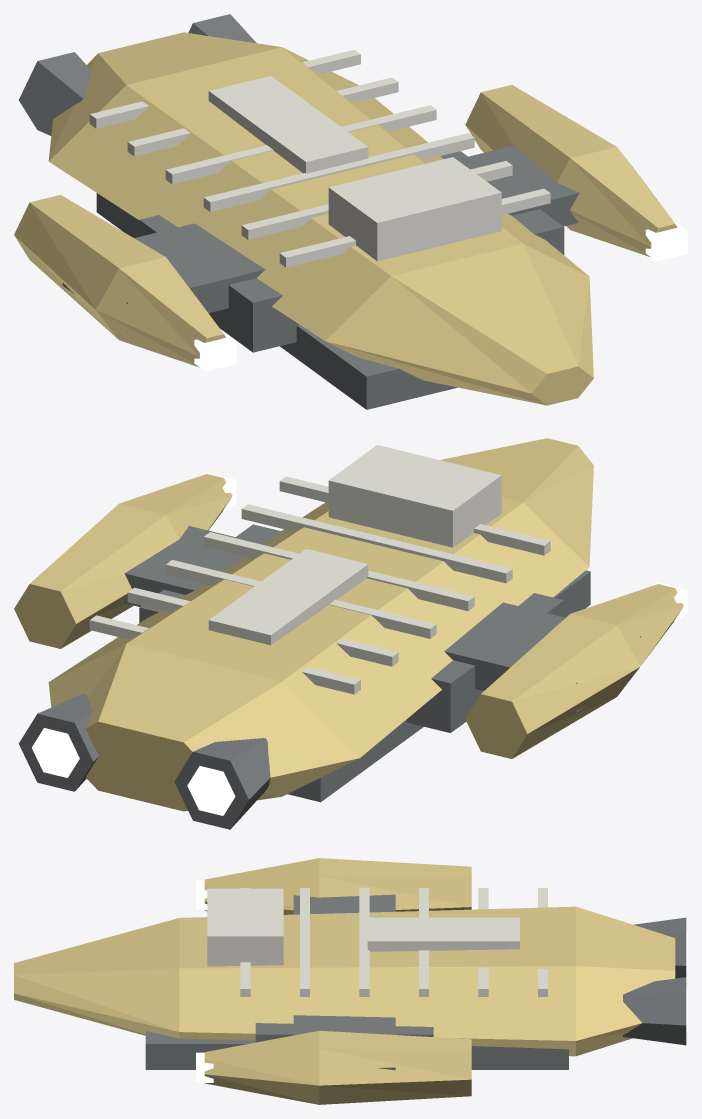
3 renders of one model, top to bottom at view 1: azimuth 30°, elevation 25°; view 2: azimuth 150°, elevation 25°; view 3: azimuth 270°, elevation 25°, orthographic. The views are drawn at different scales.
Size of the model in its own units: 7.21 by 1.85 by 9.86.
